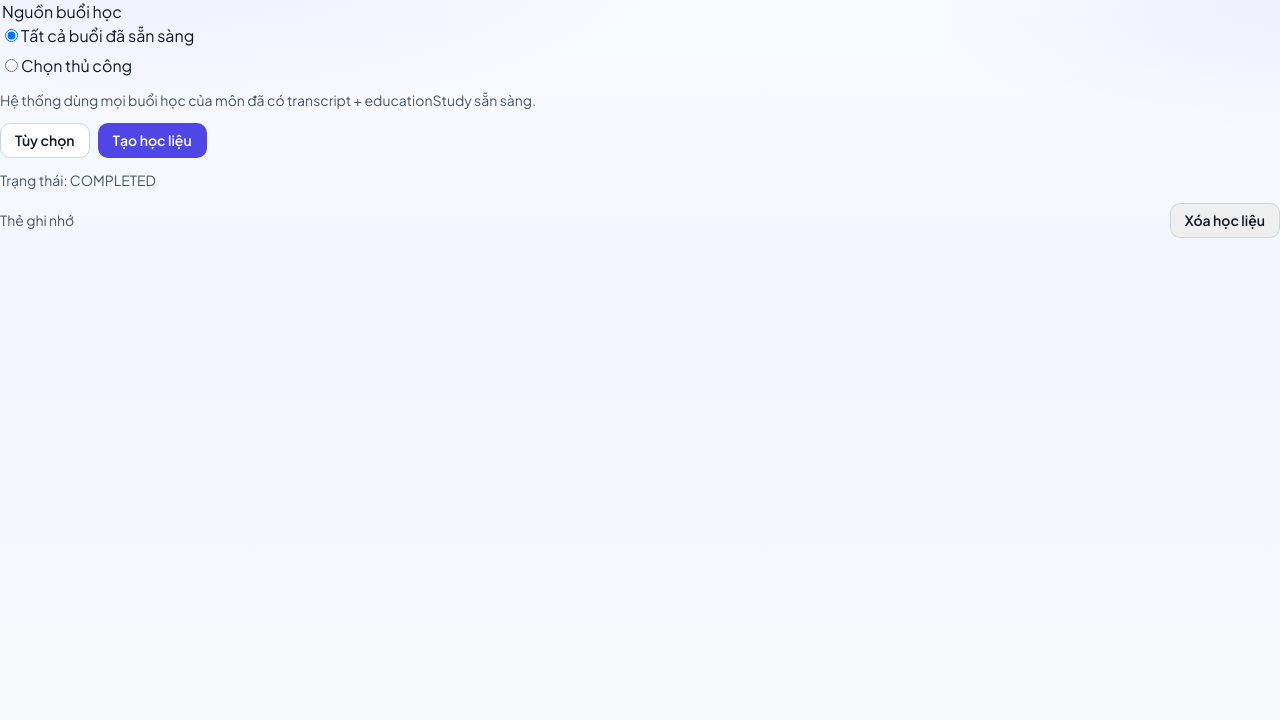
Scenario: StudyArtifactTabPanel delete flow › shows error message inside dialog when delete fails
What coordinates should you click on to do the following:
click the button with test id "artifact-delete-btn"
I would click on:
 (1225, 220)
Its box is [1170,203,1279,238].
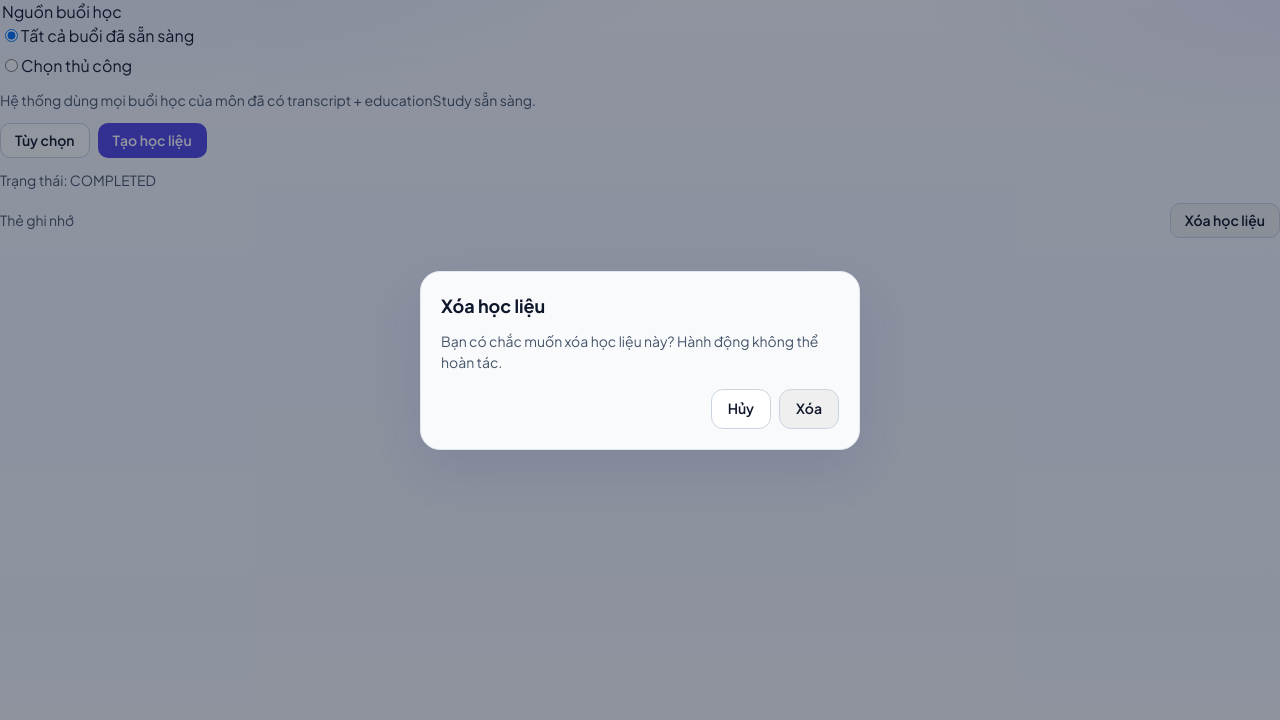
What coordinates should you click on to do the following:
click the button with test id "artifact-delete-dialog-confirm"
I would click on:
 (809, 408)
Its box is [779,388,839,428].
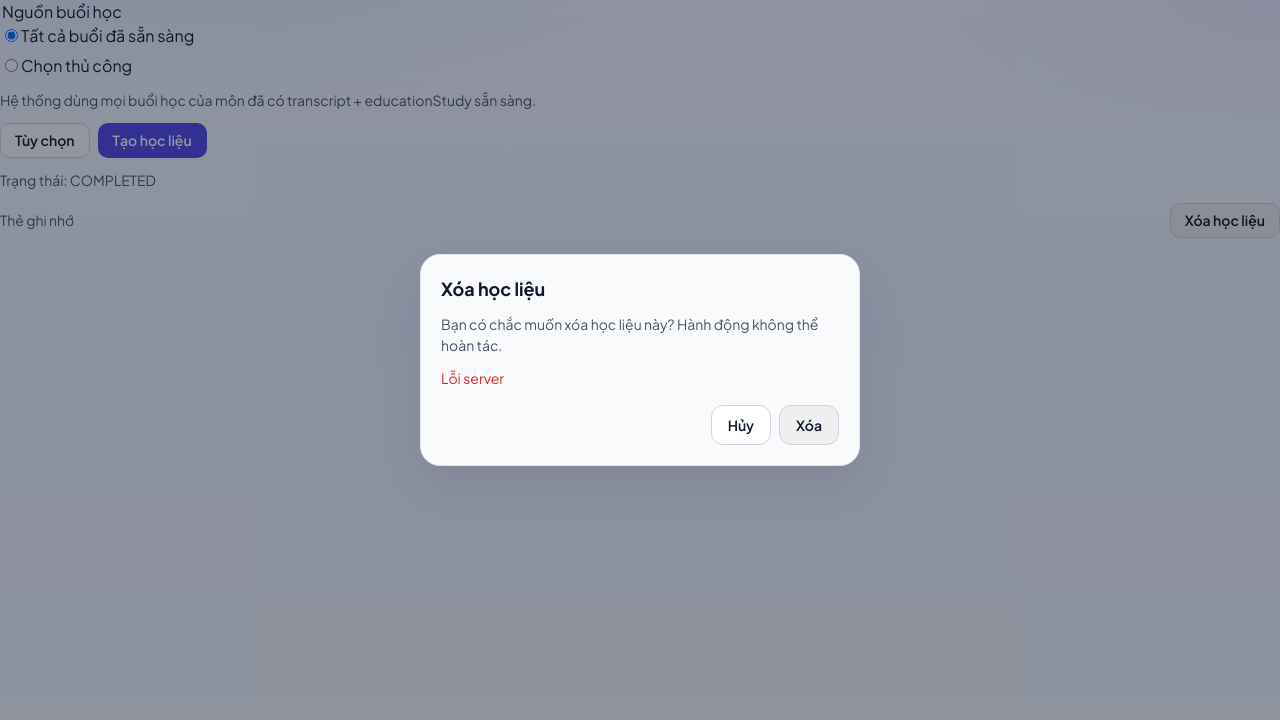
Result: the dialog with test id "artifact-delete-dialog" is shown at [420,254,860,466]
Result: the text "Lỗi server" is shown at [441,369,504,387]
